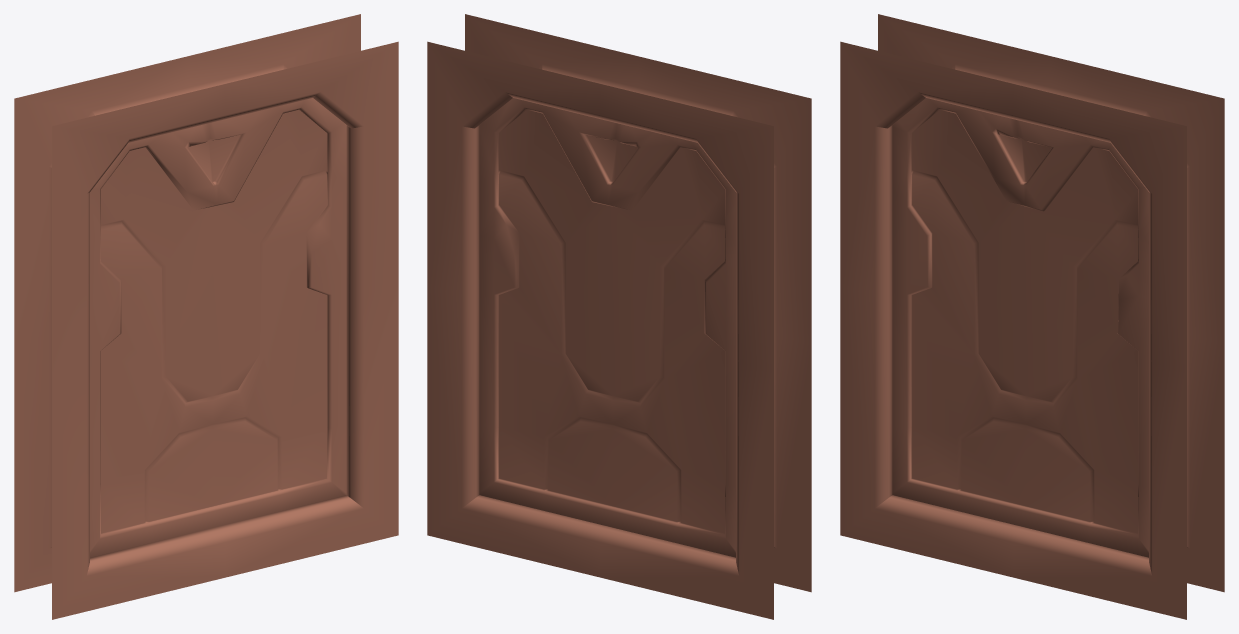
Rendered from SmallDoor.fbx.
The picture shows the model from 3 angles, left to right: view 1: azimuth 30°, elevation 25°; view 2: azimuth 150°, elevation 25°; view 3: azimuth 330°, elevation 25°; orthographic projection.
Visible parts, largest first — view 1: SmallDoor, SmallDoorFrame; view 2: SmallDoor, SmallDoorFrame; view 3: SmallDoor, SmallDoorFrame.
Part boxes in pixels (x1,y1,x2,y2): SmallDoor: (90, 98, 346, 557); SmallDoorFrame: (14, 14, 398, 619); SmallDoor: (479, 98, 735, 557); SmallDoorFrame: (427, 14, 811, 619); SmallDoor: (892, 98, 1148, 557); SmallDoorFrame: (840, 14, 1224, 619).
Bounding box in the file's own units: 266 × 361 × 50.
